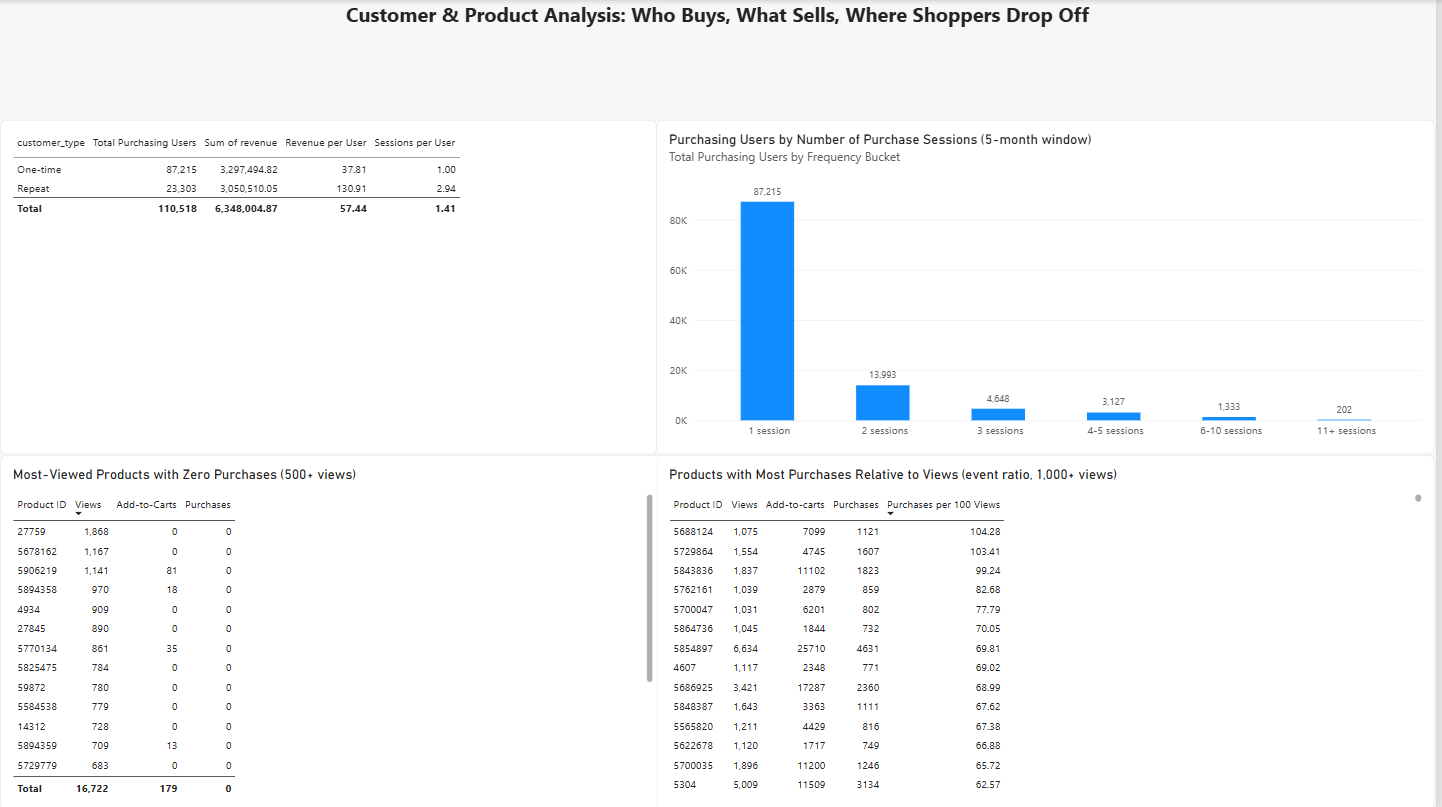

The page's visual inventory and layout, read from the dashboard file:
{"tool":"powerbi","page":{"name":"Customer & Product Analysis","canvas":[1920,1080],"ordinal":1},"visuals":[{"type":"textbox","box":[1.8,0,1916.1,82.1],"z":0},{"type":"tableEx","fields":{"Values":["customer_segments.customer_type","customer_segments.Total Purchasing Users","Sum(customer_segments.revenue)","customer_segments.Revenue per User","customer_segments.Sessions per User"]},"box":[1.8,160.7,876.8,446.4],"z":1000},{"type":"clusteredColumnChart","title":"Purchasing Users by Number of Purchase Sessions (5-month window)","fields":{"Category":["customer_segments.Frequency Bucket"],"Y":["customer_segments.Total Purchasing Users"]},"box":[878.6,160.7,1039.3,446.4],"z":2000},{"type":"tableEx","title":"Most-Viewed Products with Zero Purchases (500+ views)","fields":{"Values":["product_performance.product_id","Sum(product_performance.views)","Sum(product_performance.carts)","Sum(product_performance.purchases)"]},"box":[1.8,607.1,889.3,473.2],"z":3000},{"type":"tableEx","title":"Products with Most Purchases Relative to Views (event ratio, 1,000+ views)","fields":{"Values":["product_performance.product_id","Sum(product_performance.views)","Sum(product_performance.carts)","Sum(product_performance.purchases)","Sum(product_performance.view_to_purchase_pct)"]},"box":[878.6,607.1,1039.3,473.2],"z":4000}]}

Visuals, with their boxes in screenshot pixels (x1, y1, x2, y2), scaled from the page's 1920x1080 canvas onto the 1442x807 screenshot:
textbox: l=1, t=0, r=1440, b=61
tableEx - customer_segments.customer_type x customer_segments.Total Purchasing Users: l=1, t=120, r=660, b=454
"Purchasing Users by Number of Purchase Sessions (5-month window)" clusteredColumnChart: l=660, t=120, r=1440, b=454
"Most-Viewed Products with Zero Purchases (500+ views)" tableEx: l=1, t=454, r=669, b=806
"Products with Most Purchases Relative to Views (event ratio, 1,000+ views)" tableEx: l=660, t=454, r=1440, b=806
